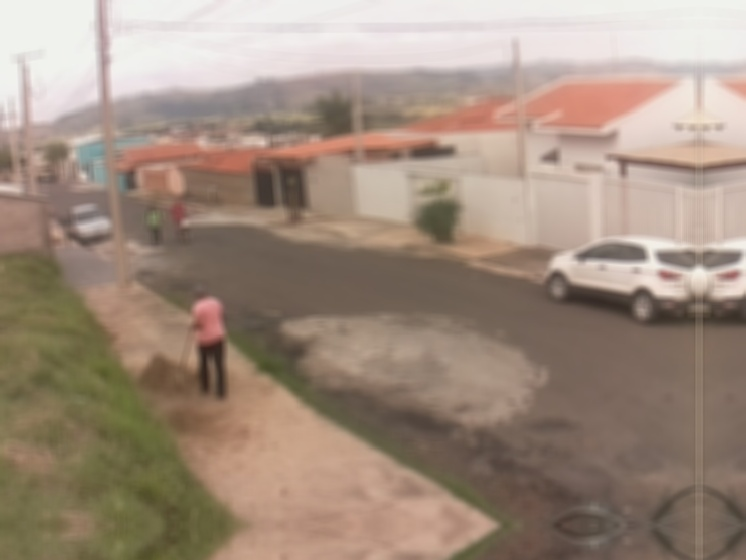person: (188, 284, 229, 402), (144, 204, 164, 248), (169, 200, 187, 227)
